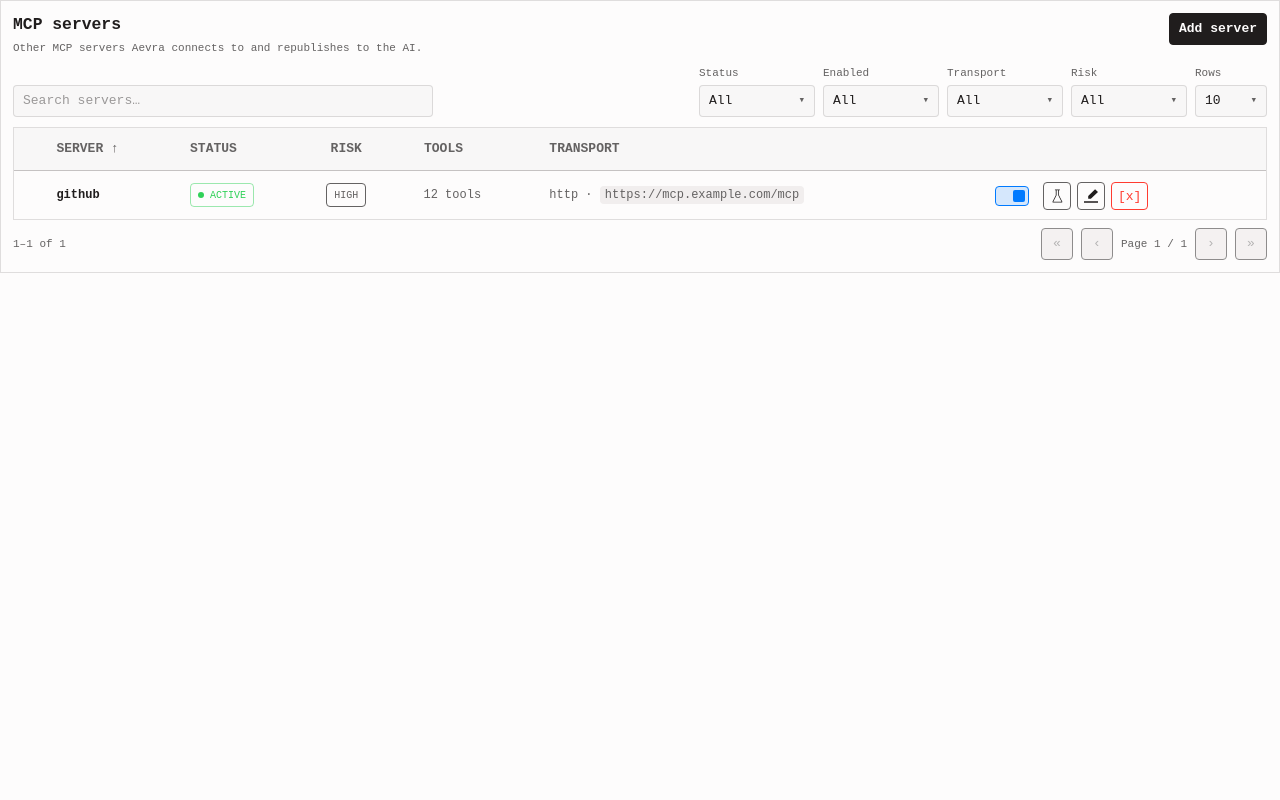
Test case: McpUpstreamsSettings › tests a server and reports identity on success, and failure message on test failure
Click the button named "test github".
click(1057, 196)  # box [1043, 182, 1071, 210]
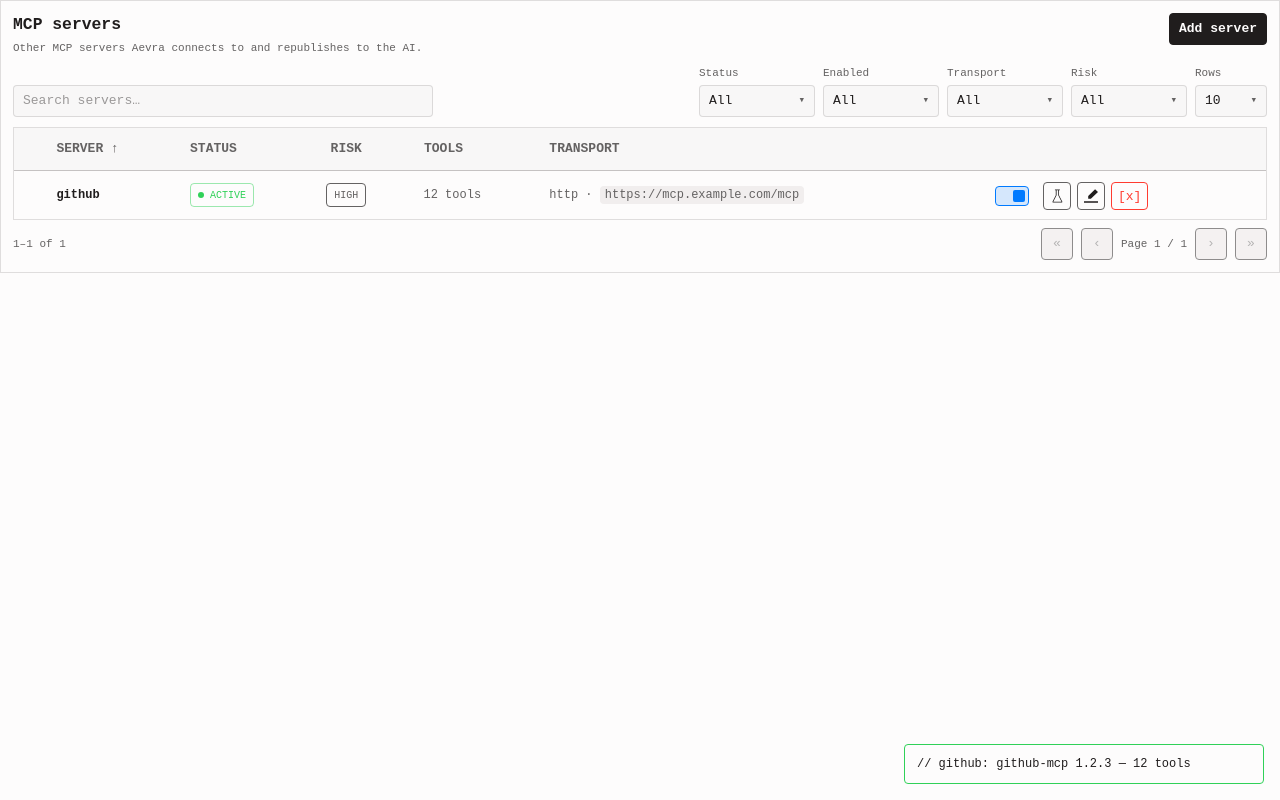
Now the text "github: github-mcp 1.2.3 — 12 tools" is shown, box [904, 744, 1264, 784]
Click the button named "test github".
click(1057, 196)  # box [1043, 182, 1071, 210]
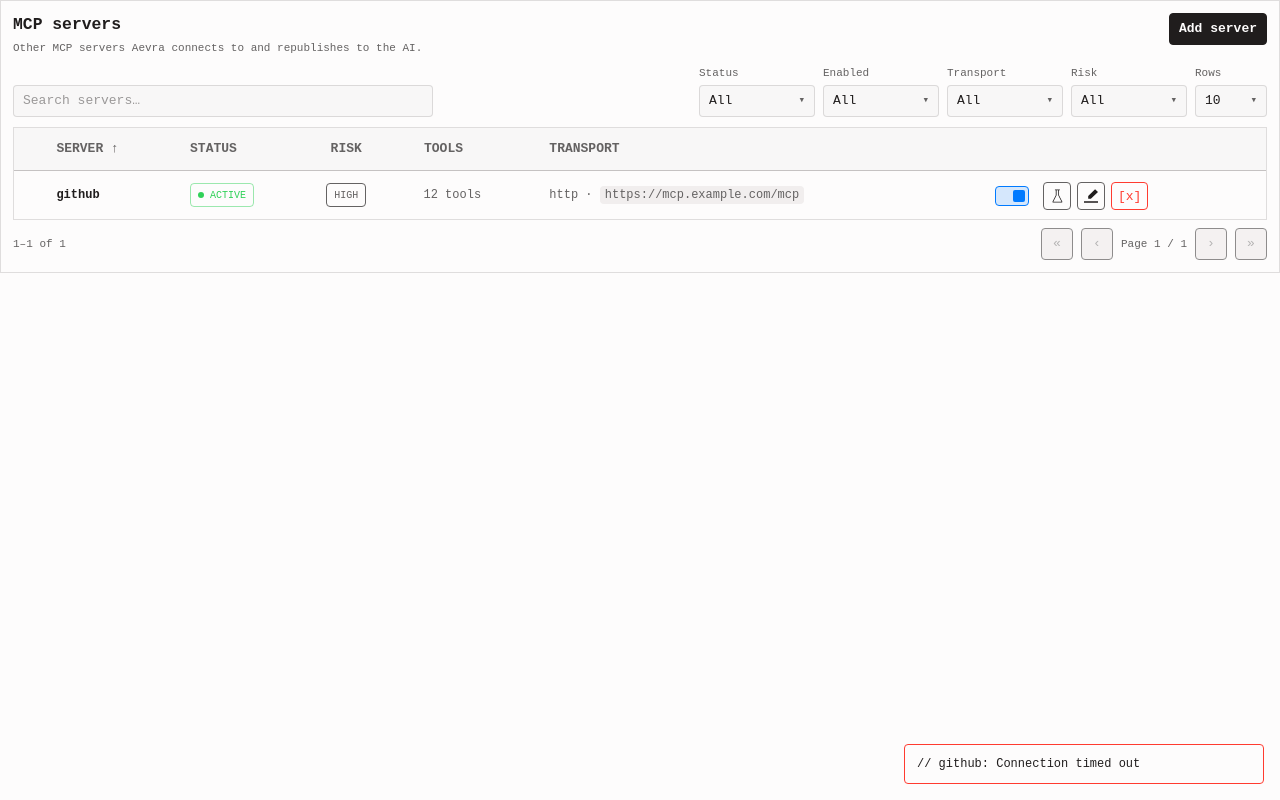
Now the text "github: Connection timed out" is shown, box [904, 744, 1264, 784]
